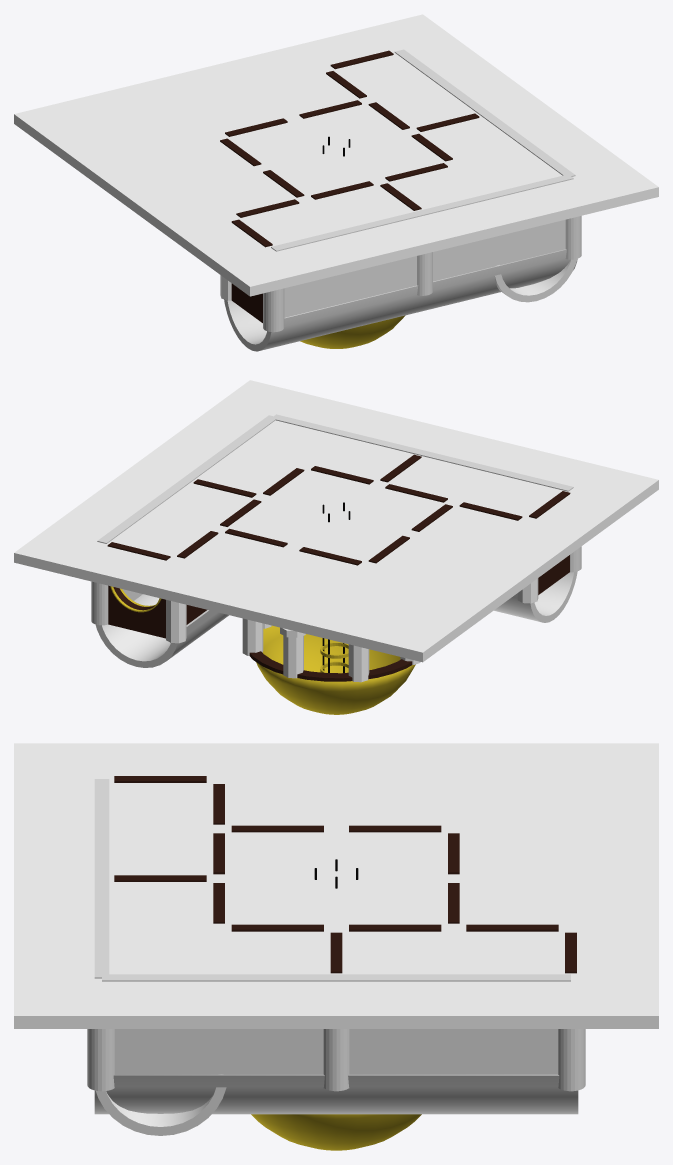
Rendered from subpass_scene_opaque.gltf.
The picture shows the model from 3 angles, top to bottom: view 1: azimuth 30°, elevation 25°; view 2: azimuth 150°, elevation 25°; view 3: azimuth 270°, elevation 25°; orthographic projection. The views are drawn at different scales.
Visible parts, largest first — view 1: Cube_007, Cube_006, Cylinder_043, Cube_005, Sphere_001, Cylinder_042, Cube_015, Cylinder_014, Cylinder_012, Cylinder_013; view 2: Cube_007, Sphere_001, Cylinder_042, Cube_016, Cube_006, Cube_005, Cylinder_043, Circle_001, Cube_015, Cylinder_016, Cylinder_029, Cylinder_008 (+3 smaller); view 3: Cube_007, Cube_005, Cylinder_042, Sphere_001, Cube_006, Cylinder_043, Cylinder_008, Cylinder_012, Cylinder_009, Cube_000, Cube_001, Cube_002 (+4 smaller).
Boxes of the visible parts, x1,y1,x2,y2 form: Cube_007: (14, 14, 658, 296); Cube_006: (271, 174, 573, 317); Cylinder_043: (224, 249, 577, 351); Cube_005: (394, 49, 575, 176); Sphere_001: (300, 315, 405, 348); Cylinder_042: (495, 259, 577, 302); Cube_015: (231, 219, 272, 322); Cylinder_014: (263, 288, 284, 332); Cylinder_012: (565, 216, 581, 259); Cylinder_013: (417, 252, 432, 295); Cube_007: (14, 380, 658, 662); Sphere_001: (256, 625, 415, 714); Cylinder_042: (95, 594, 228, 667); Cube_016: (107, 542, 170, 638); Cube_006: (274, 414, 573, 491); Cube_005: (97, 415, 277, 600); Cylinder_043: (494, 571, 577, 622); Circle_001: (249, 651, 412, 681); Cube_015: (529, 491, 570, 594); Cylinder_016: (166, 600, 186, 643); Cylinder_029: (283, 635, 303, 678); Cylinder_008: (91, 581, 108, 625); Cube_007: (14, 743, 658, 1028); Cube_005: (102, 974, 570, 1074); Cylinder_042: (94, 1074, 578, 1114); Sphere_001: (251, 1114, 421, 1150); Cube_006: (94, 779, 109, 978); Cylinder_043: (96, 1074, 226, 1135); Cylinder_008: (558, 1029, 585, 1091); Cylinder_012: (87, 1029, 114, 1091); Cylinder_009: (323, 1029, 349, 1091); Cube_000: (466, 924, 558, 931); Cube_001: (349, 924, 441, 931); Cube_002: (231, 924, 323, 931).
Size of the model in its own units: 22 by 10.2 by 22.
